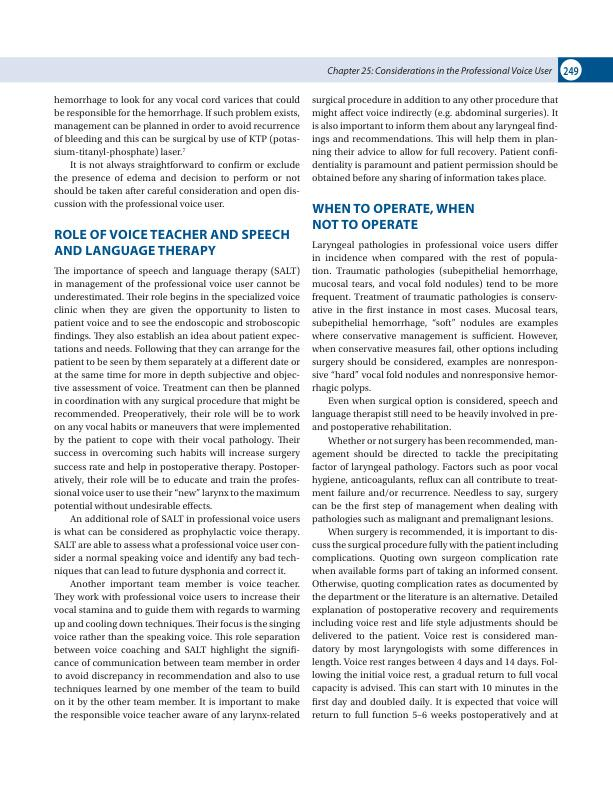header: (326, 65, 554, 76)
section-heading: (53, 227, 291, 256), (310, 201, 476, 231)
text: (310, 239, 559, 723), (52, 265, 301, 722), (53, 94, 302, 210), (311, 94, 559, 185)
